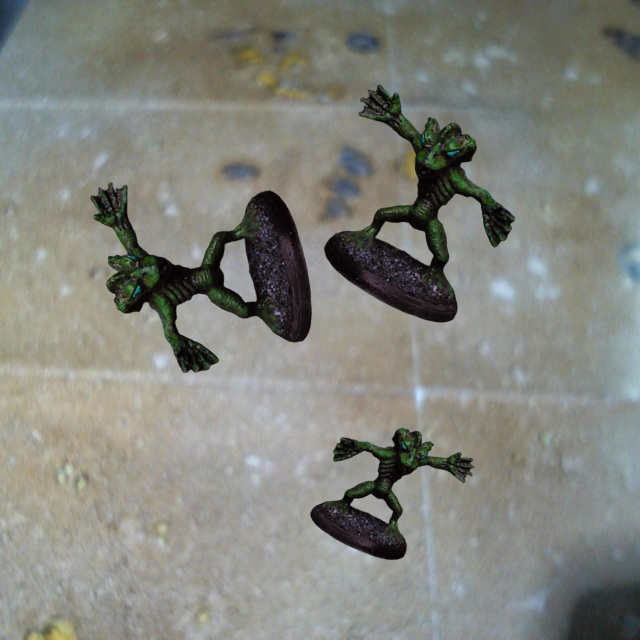pieza_juego: (324, 85, 514, 322), (90, 182, 311, 372), (310, 428, 473, 559)
